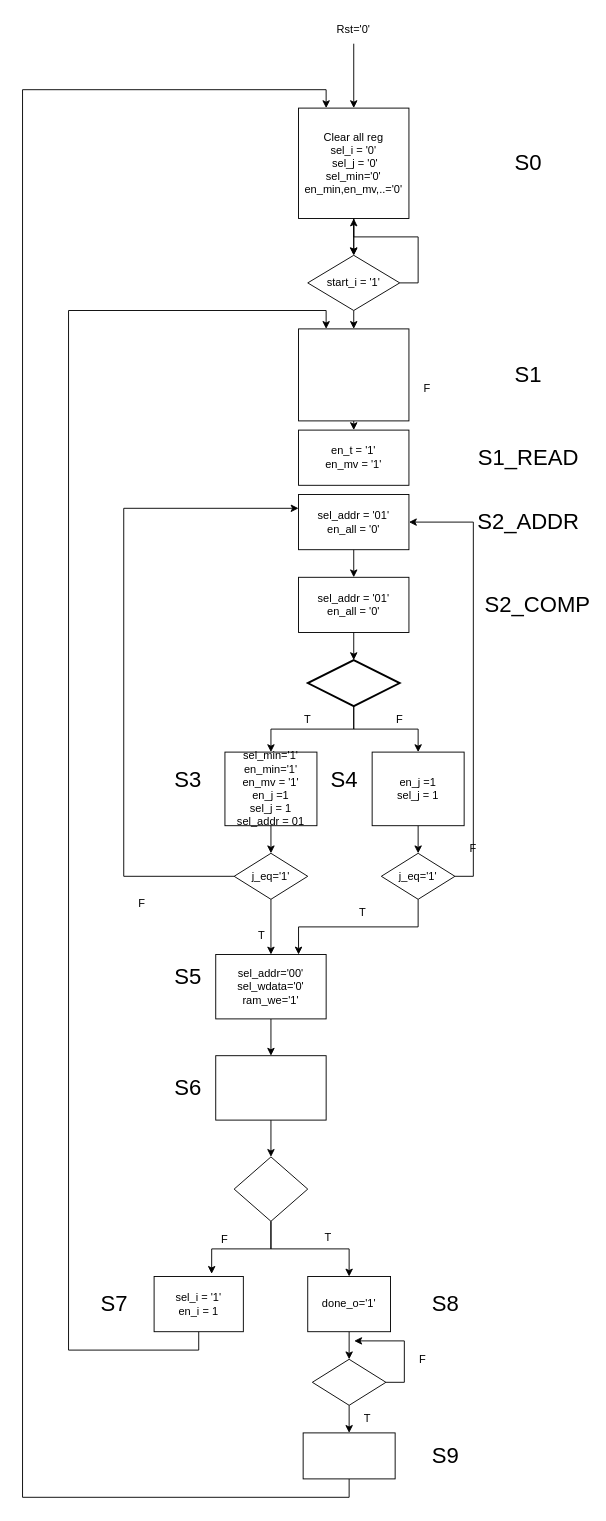
The diagram is 606 pixels wide and 1521 high, and some of its shapes have lost their labels. The shapes that lost their labels are listed below. From the top down, each one's box as (x1, y1, x2, y2) in pixels, then its label:
(298, 328, 409, 421): sel_j = '0' en_j='1' sel_min = '0' en_min = '1' sel_addr = "00"
(306, 659, 400, 707): lt= '1'
(215, 1055, 326, 1120): sel_addr='10' sel_wdata='1' ram_we='1'
(233, 1156, 308, 1221): i_eq='1'
(311, 1358, 386, 1405): start_i ='0'
(302, 1432, 395, 1479): Done_o='0'
